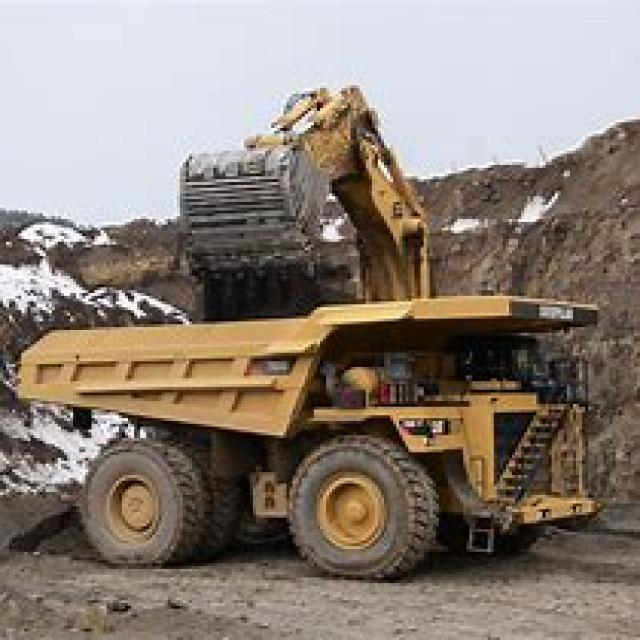dump_truck: (15, 293, 613, 589)
